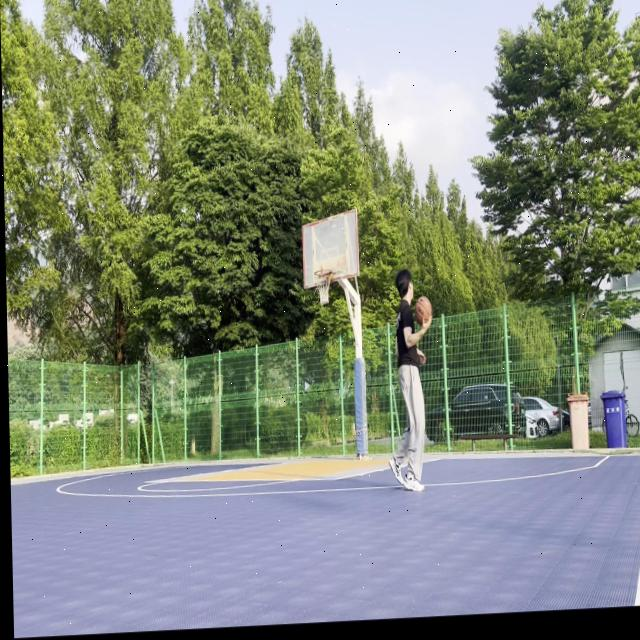basketball: (414, 295, 433, 328)
hoop: (314, 268, 333, 307)
